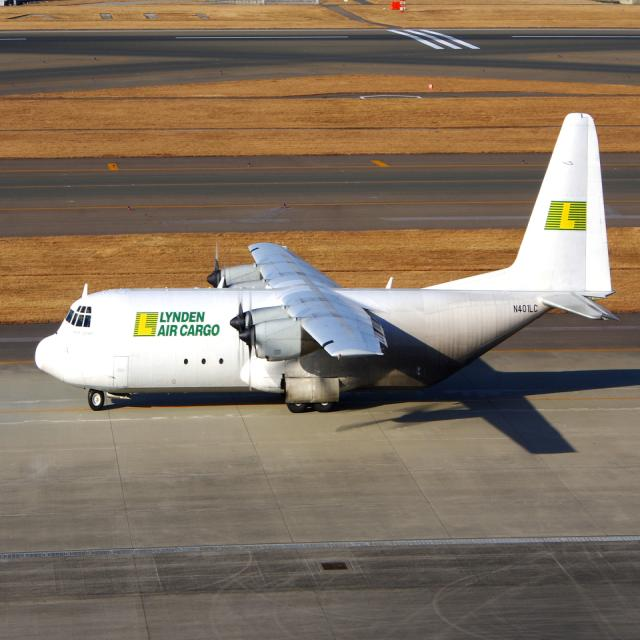MIL_Plane: (35, 112, 623, 414)
